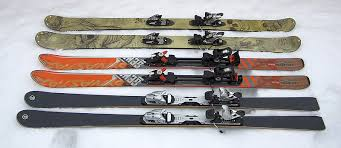skis: (16, 94, 330, 131), (34, 14, 304, 53), (30, 55, 312, 89)
